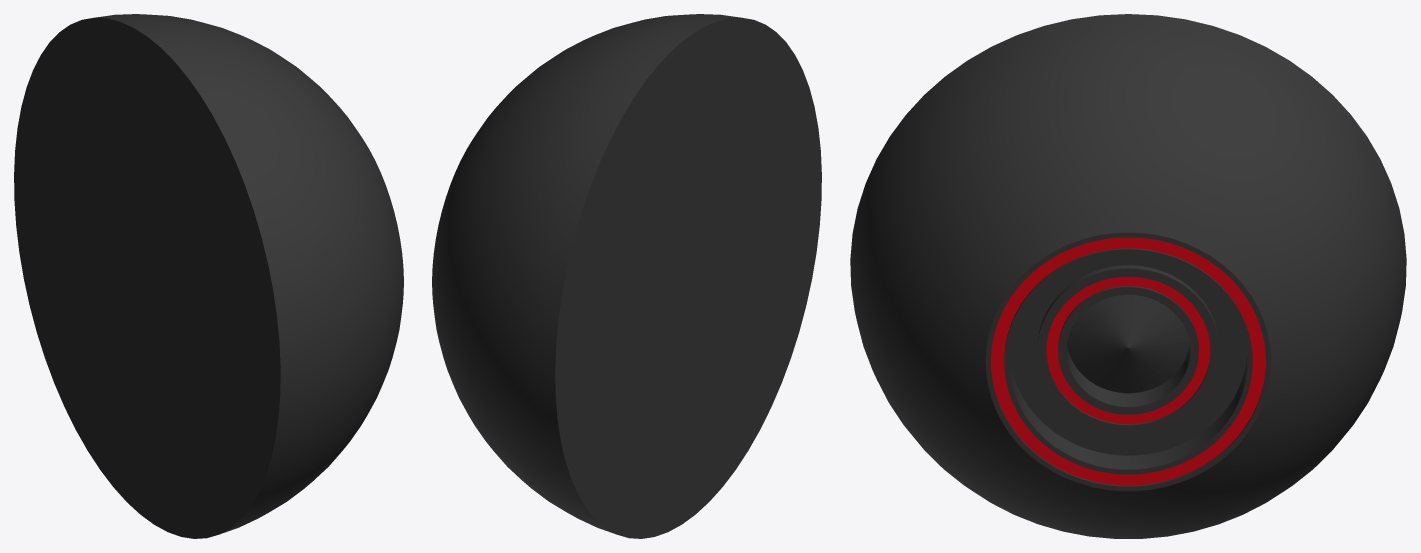
Rendered from laser_emitter.fbx.
The picture shows the model from 3 angles, left to right: view 1: azimuth 30°, elevation 25°; view 2: azimuth 150°, elevation 25°; view 3: azimuth 270°, elevation 25°; orthographic projection. The views are drawn at different scales.
Visible parts, largest first — view 1: Sphere; view 2: Sphere; view 3: Sphere.
Part boxes in pixels (box(x1,y1,x2,y2)): Sphere: box(14, 14, 403, 538); Sphere: box(432, 14, 821, 538); Sphere: box(850, 14, 1406, 538).
Bounding box in the file's own units: 60.82 × 149 × 149.
